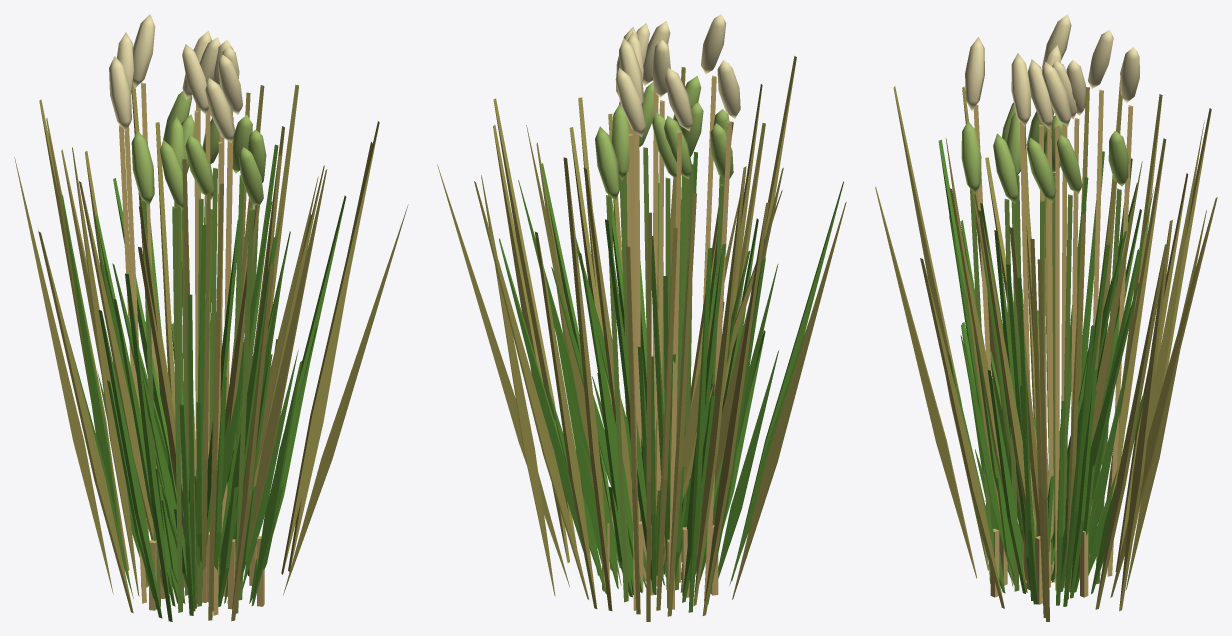
The model's file is Crop_Grain_Rice.fbx.
The picture shows the model from 3 angles, left to right: view 1: azimuth 30°, elevation 25°; view 2: azimuth 150°, elevation 25°; view 3: azimuth 270°, elevation 25°; orthographic projection. The views are drawn at different scales.
Parts seen in each view (by area): view 1: Crop_Grain_Rice__S4, Crop_Grain_Rice__S3, Crop_Grain_Rice__S2, Crop_Grain_Rice__S5, Crop_Grain_Rice__S1; view 2: Crop_Grain_Rice__S4, Crop_Grain_Rice__S3, Crop_Grain_Rice__S2, Crop_Grain_Rice__S5; view 3: Crop_Grain_Rice__S4, Crop_Grain_Rice__S3, Crop_Grain_Rice__S2, Crop_Grain_Rice__S5, Crop_Grain_Rice__S1.
Part boxes in pixels (<box>): Crop_Grain_Rice__S4: <box>14,14,408,621</box>; Crop_Grain_Rice__S3: <box>38,91,346,621</box>; Crop_Grain_Rice__S2: <box>97,321,316,615</box>; Crop_Grain_Rice__S5: <box>141,450,283,610</box>; Crop_Grain_Rice__S1: <box>161,486,255,603</box>; Crop_Grain_Rice__S4: <box>437,14,846,621</box>; Crop_Grain_Rice__S3: <box>499,75,843,612</box>; Crop_Grain_Rice__S2: <box>546,302,778,602</box>; Crop_Grain_Rice__S5: <box>602,466,718,609</box>; Crop_Grain_Rice__S4: <box>875,14,1217,621</box>; Crop_Grain_Rice__S3: <box>938,102,1154,606</box>; Crop_Grain_Rice__S2: <box>948,289,1144,605</box>; Crop_Grain_Rice__S5: <box>975,418,1117,604</box>; Crop_Grain_Rice__S1: <box>996,476,1099,590</box>.
Size of the model in its own units: 0.2246 by 0.3411 by 0.1996.
